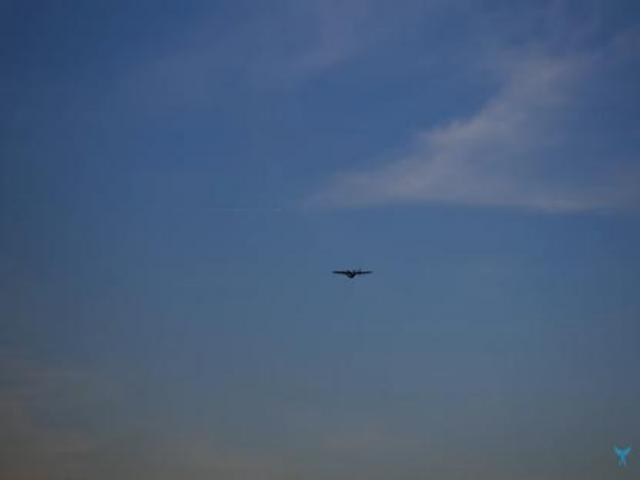uav: (321, 258, 379, 284)
